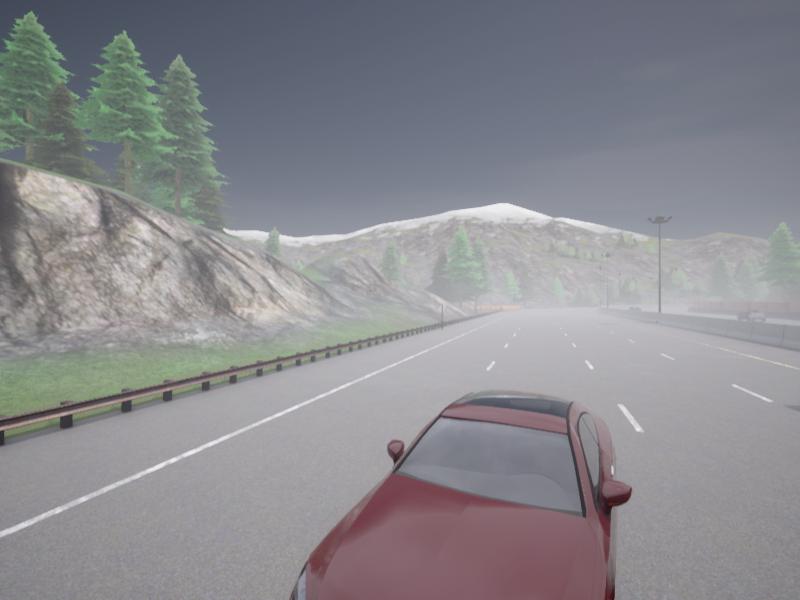vehicle: (289, 389, 632, 599), (737, 309, 765, 321), (628, 306, 640, 310)
